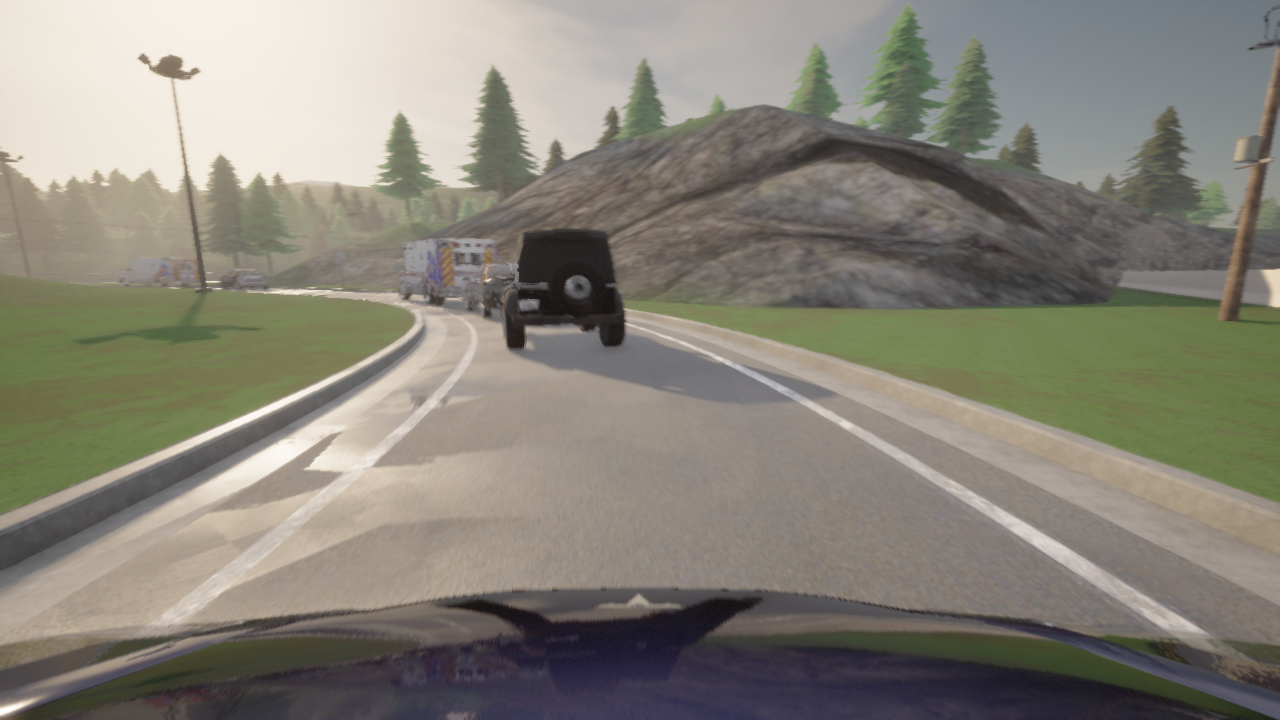cyclist: (0, 588, 1279, 719), (501, 228, 625, 349), (394, 238, 496, 304), (461, 262, 516, 318), (116, 258, 200, 287), (221, 270, 269, 290)
